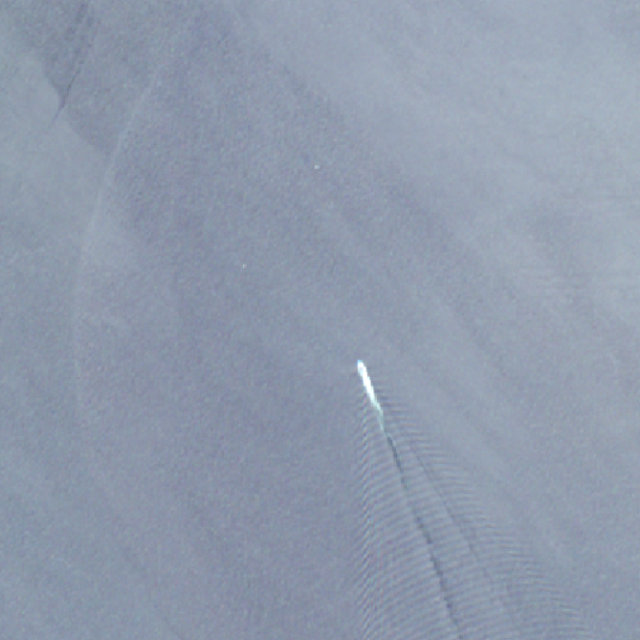wake: (278, 308, 513, 615)
